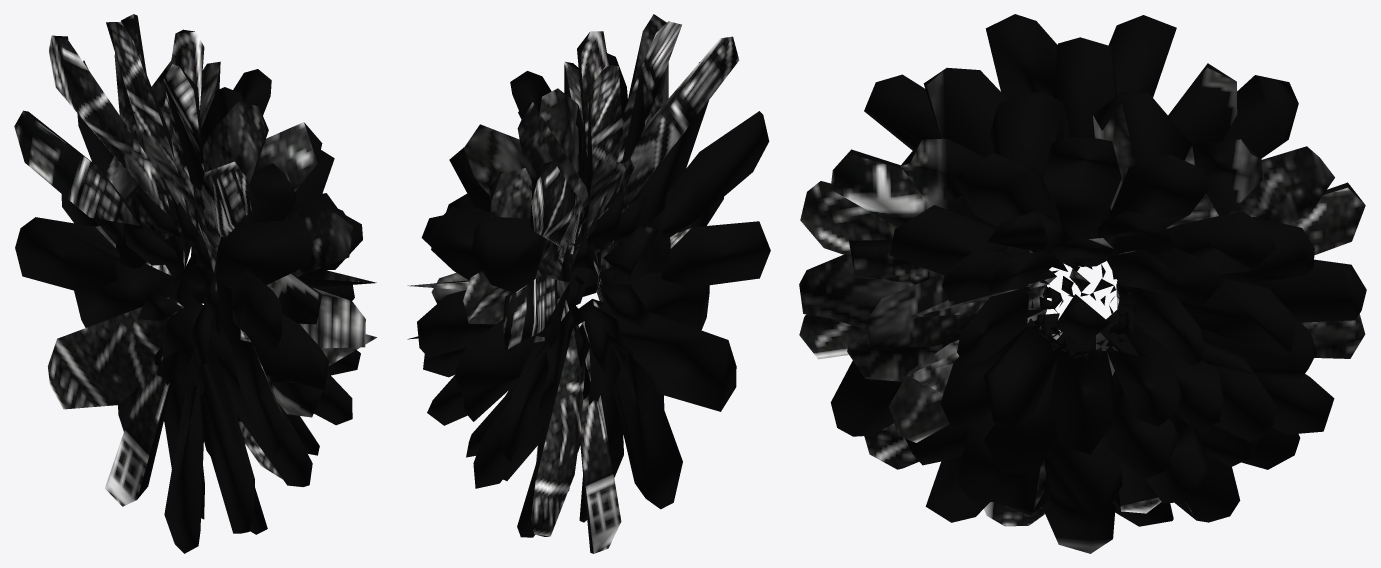
The picture shows the model from 3 angles, left to right: view 1: azimuth 30°, elevation 25°; view 2: azimuth 150°, elevation 25°; view 3: azimuth 270°, elevation 25°; orthographic projection. The views are drawn at different scales.
Parts seen in each view (by area): view 1: tripo_node_9f37003d-00e4-46ad-b435-aad72360b564.003; view 2: tripo_node_9f37003d-00e4-46ad-b435-aad72360b564.003; view 3: tripo_node_9f37003d-00e4-46ad-b435-aad72360b564.003.
Part boxes in pixels (left/top/right/bottom): tripo_node_9f37003d-00e4-46ad-b435-aad72360b564.003: left=14, top=14, right=376, bottom=553; tripo_node_9f37003d-00e4-46ad-b435-aad72360b564.003: left=407, top=14, right=770, bottom=553; tripo_node_9f37003d-00e4-46ad-b435-aad72360b564.003: left=799, top=14, right=1366, bottom=553.
Bounding box in the file's own units: 32.17 × 99.68 × 99.4.
